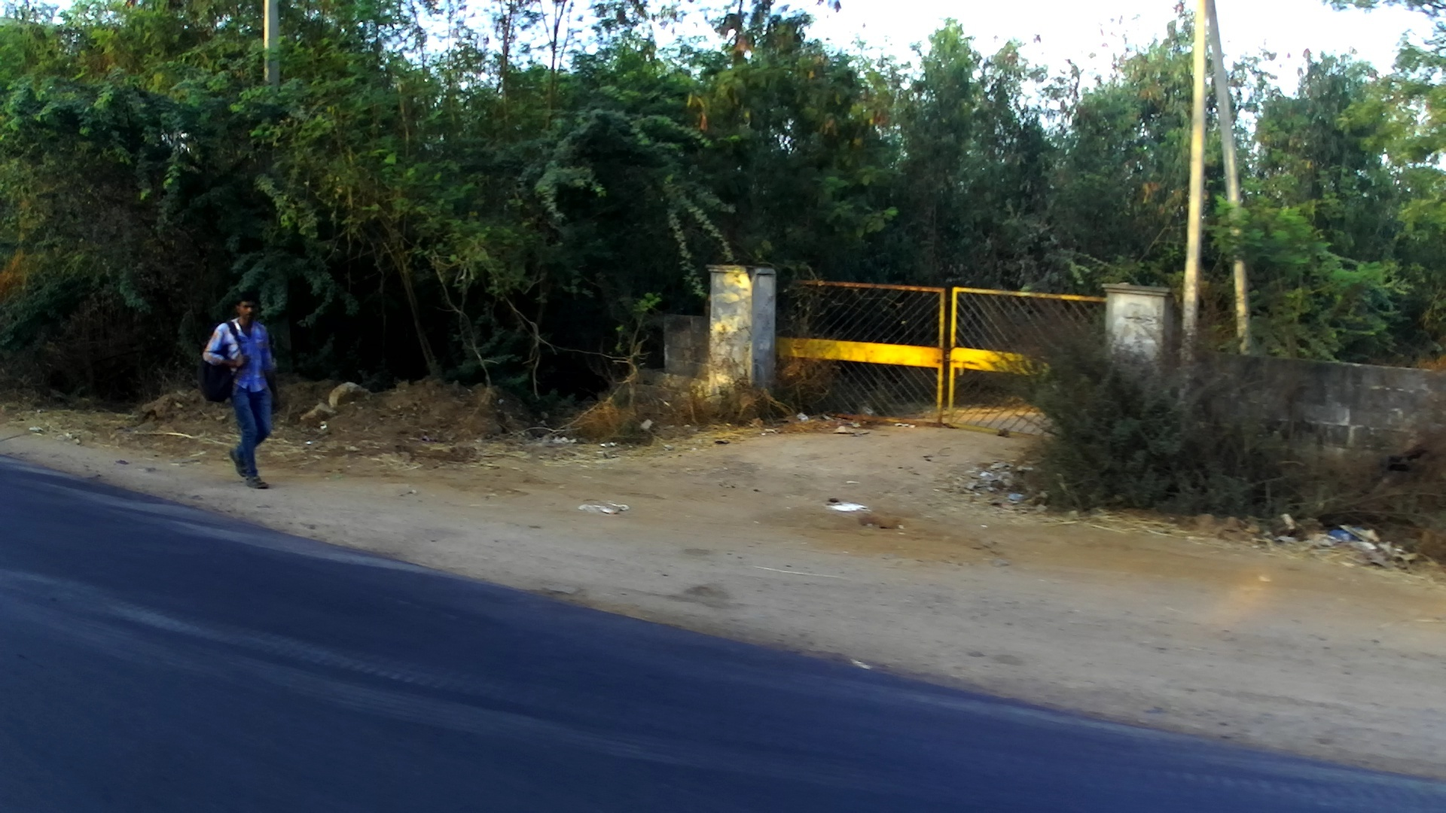person: (203, 292, 281, 492)
